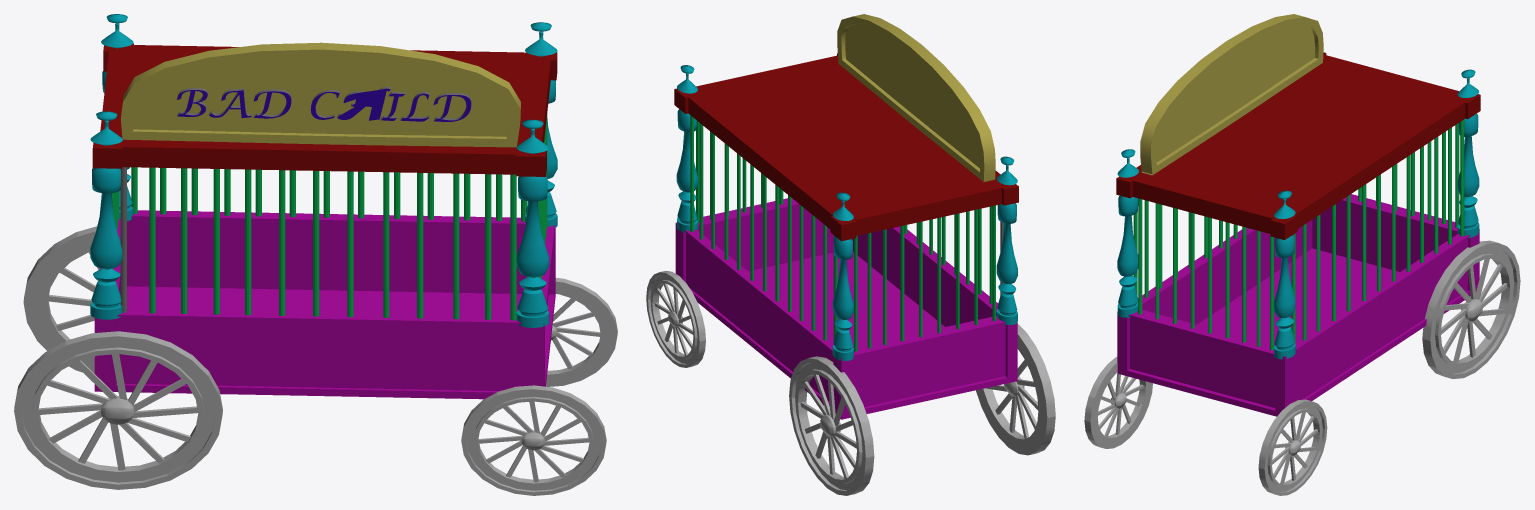
File: Cage1.fbx
3 renders of one model, left to right at view 1: azimuth 30°, elevation 25°; view 2: azimuth 150°, elevation 25°; view 3: azimuth 270°, elevation 25°, orthographic. The views are drawn at different scales.
Parts seen in each view (by area): view 1: CAGE36; view 2: CAGE36; view 3: CAGE36.
Boxes of the visible parts, x1,y1,x2,y2 form: CAGE36: (14,14,617,495); CAGE36: (646,14,1055,495); CAGE36: (1084,14,1520,495).
Bounding box in the file's own units: 7.26 × 5.37 × 6.13.
